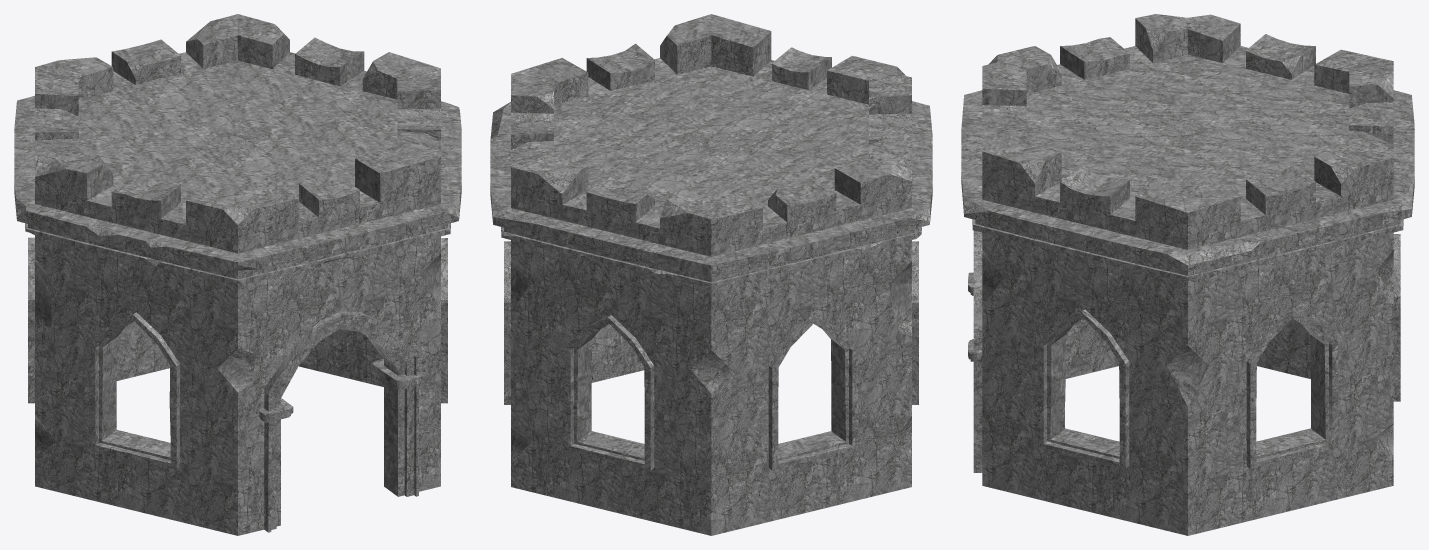
File: materials_3_building_0.fbx
3 renders of one model, left to right at view 1: azimuth 30°, elevation 25°; view 2: azimuth 150°, elevation 25°; view 3: azimuth 270°, elevation 25°, orthographic. The views are drawn at different scales.
Visible parts, largest first — view 1: materials_3_building_0; view 2: materials_3_building_0; view 3: materials_3_building_0.
Part boxes in pixels (<box>): materials_3_building_0: <box>14,14,461,535</box>; materials_3_building_0: <box>490,14,932,535</box>; materials_3_building_0: <box>961,14,1414,535</box>.
Bounding box in the file's own units: 547 × 390 × 479.
